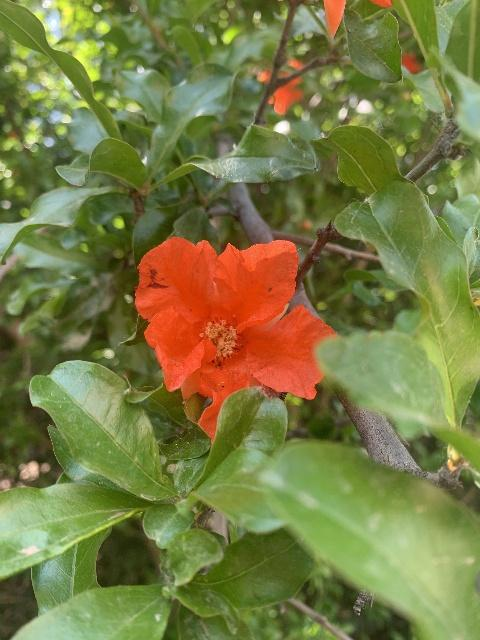flower: (133, 236, 336, 440), (257, 59, 304, 114)
